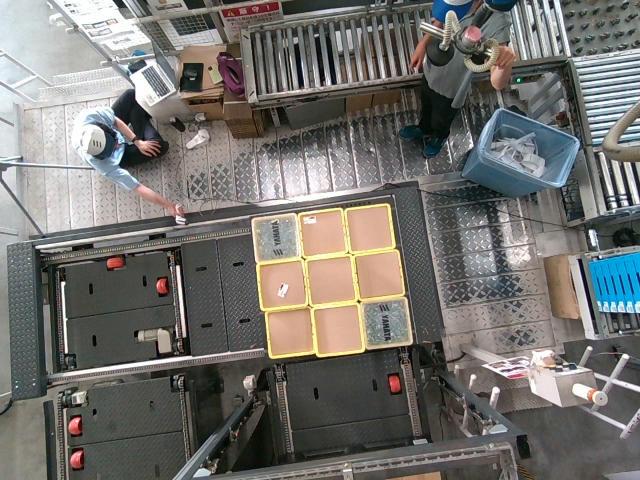box: (313, 302, 365, 355), (267, 307, 316, 359), (306, 257, 358, 305), (252, 213, 302, 261), (361, 300, 412, 346), (258, 261, 306, 309), (299, 207, 345, 257), (345, 205, 394, 251), (355, 252, 404, 296)
